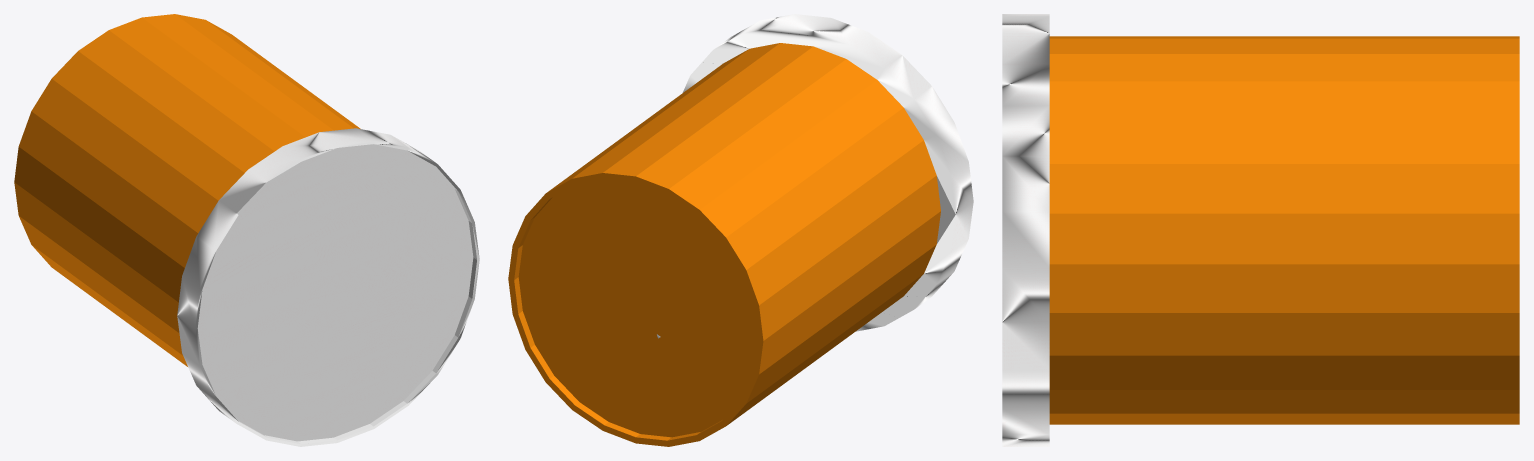
File: model_align.obj
3 renders of one model, left to right at view 1: azimuth 30°, elevation 25°; view 2: azimuth 150°, elevation 25°; view 3: azimuth 270°, elevation 25°, orthographic. The views are drawn at different scales.
Size of the model in its own units: 0.0938 by 0.0938 by 0.1116.
